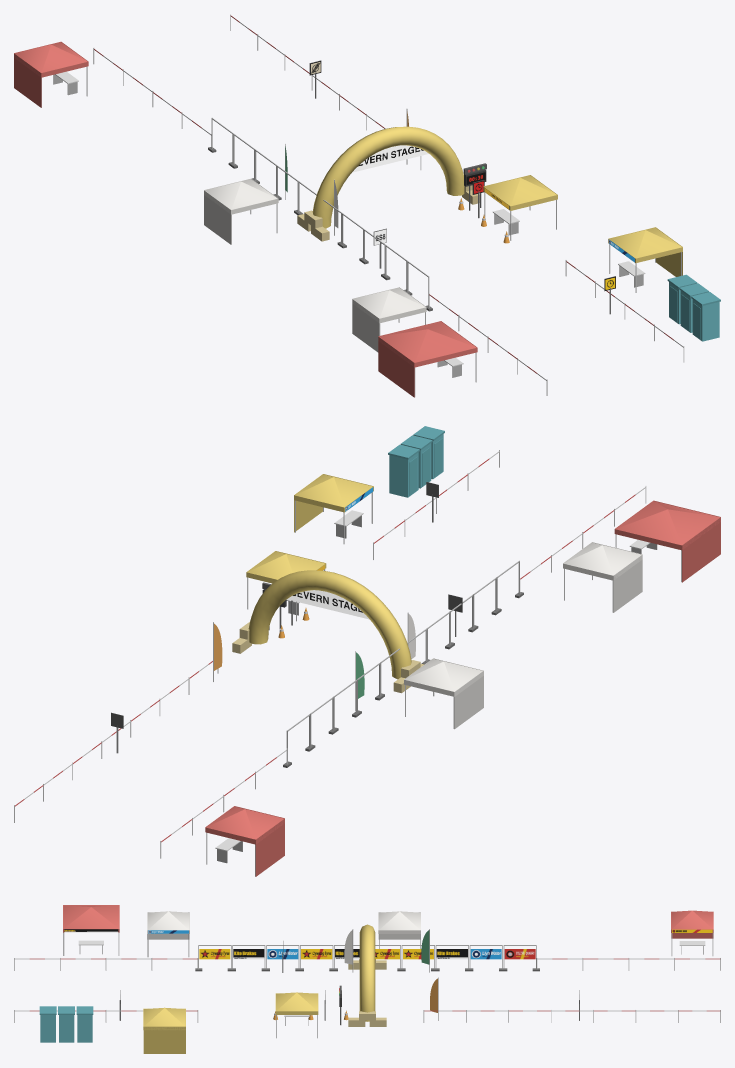
File: start_5.glb
3 renders of one model, top to bottom at view 1: azimuth 30°, elevation 25°; view 2: azimuth 150°, elevation 25°; view 3: azimuth 270°, elevation 25°, orthographic. The views are drawn at different scales.
Size of the model in its own units: 20.39 by 5.15 by 50.05.
Materials: 50 (22 with a texture image).
